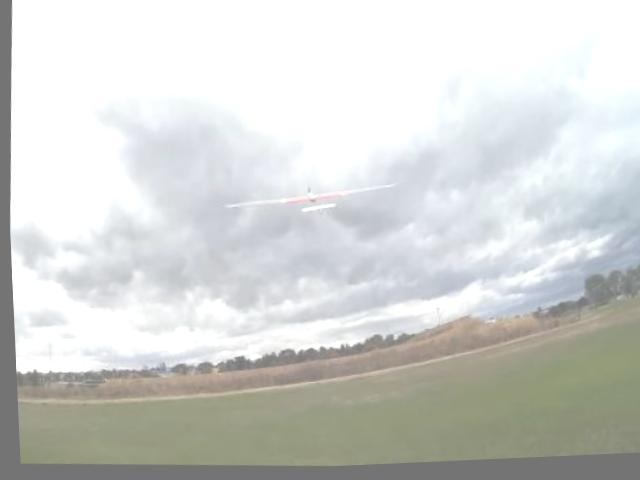uav: (214, 164, 402, 240)
